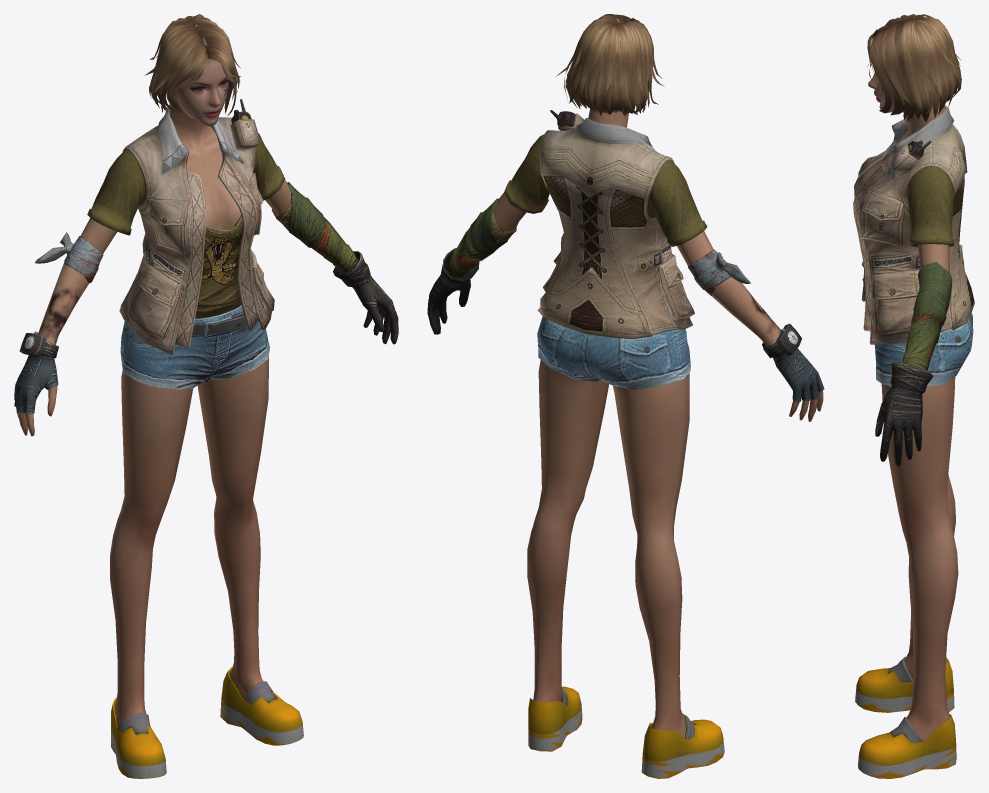
The model's file is freefire_new_3d_model_by_pace_gaming.glb.
The picture shows the model from 3 angles, left to right: view 1: azimuth 30°, elevation 25°; view 2: azimuth 150°, elevation 25°; view 3: azimuth 270°, elevation 25°; orthographic projection.
Parts seen in each view (by area): view 1: Object_3, Object_5, Object_2, Object_4, Object_6; view 2: Object_5, Object_3, Object_2, Object_6, Object_4; view 3: Object_5, Object_3, Object_6, Object_4, Object_2.
Boxes of the visible parts, <box> form: Object_3: <box>16,59,290,724</box>; Object_5: <box>14,99,398,413</box>; Object_2: <box>120,305,269,389</box>; Object_4: <box>111,667,303,778</box>; Object_6: <box>145,14,240,116</box>; Object_5: <box>427,110,824,402</box>; Object_3: <box>493,108,823,737</box>; Object_2: <box>537,316,690,389</box>; Object_6: <box>556,14,664,115</box>; Object_4: <box>528,686,724,778</box>; Object_5: <box>853,105,974,466</box>; Object_3: <box>860,73,958,741</box>; Object_6: <box>867,14,961,122</box>; Object_4: <box>855,657,956,778</box>; Object_2: <box>865,298,973,386</box>.
Size of the model in its own units: 6.18 by 11.23 by 1.72.
5 materials, 5 textured.
